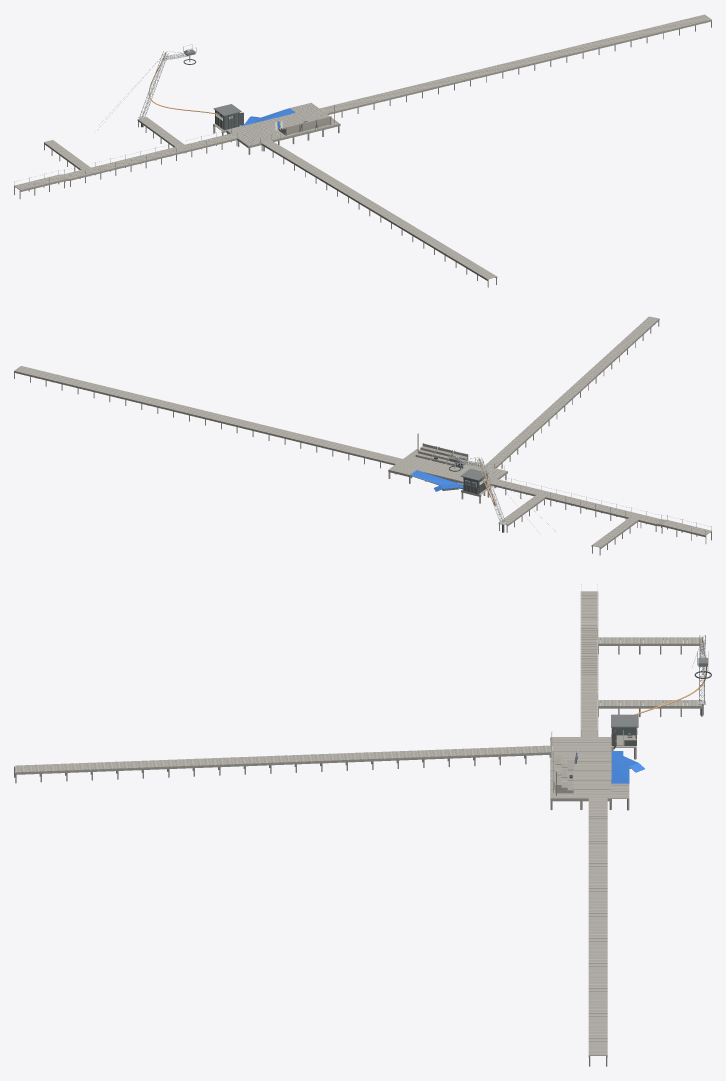
File: ccp_control_start_lounge.glb
The picture shows the model from 3 angles, top to bottom: view 1: azimuth 30°, elevation 25°; view 2: azimuth 150°, elevation 25°; view 3: azimuth 270°, elevation 25°; orthographic projection. The views are drawn at different scales.
Visible parts, largest first — view 1: Connected access walkways / Weathered timber 3, Connected access walkways / Weathered timber 0, Connected access walkways / Weathered timber 1, Connected access walkways / Weathered timber 2, Timber deck and piles / Weathered timber 3, Timber deck and piles / Weathered timber 0, Timber deck and piles / Weathered timber 2, Timber deck and piles / Weathered timber 1; view 2: Connected access walkways / Weathered timber 3, Connected access walkways / Weathered timber 0, Connected access walkways / Weathered timber 1, Connected access walkways / Weathered timber 2, Timber deck and piles / Weathered timber 3, Timber deck and piles / Weathered timber 0, Timber deck and piles / Weathered timber 2, Timber deck and piles / Weathered timber 1, Stepped lounge seating / Weathered timber 3; view 3: Connected access walkways / Weathered timber 3, Connected access walkways / Weathered timber 2, Connected access walkways / Weathered timber 0, Connected access walkways / Weathered timber 1, Timber deck and piles / Weathered timber 3, Timber deck and piles / Weathered timber 0, Timber deck and piles / Weathered timber 2, Timber deck and piles / Weathered timber 1.
Boxes of the visible parts, box(x1,y1,x2,y2) form: Connected access walkways / Weathered timber 3: box(14, 14, 711, 287); Connected access walkways / Weathered timber 0: box(15, 14, 711, 278); Connected access walkways / Weathered timber 1: box(14, 15, 708, 278); Connected access walkways / Weathered timber 2: box(18, 15, 709, 279); Timber deck and piles / Weathered timber 3: box(213, 103, 340, 154); Timber deck and piles / Weathered timber 0: box(213, 103, 338, 146); Timber deck and piles / Weathered timber 2: box(224, 102, 339, 145); Timber deck and piles / Weathered timber 1: box(225, 103, 337, 145); Connected access walkways / Weathered timber 3: box(14, 318, 711, 555); Connected access walkways / Weathered timber 0: box(14, 317, 710, 547); Connected access walkways / Weathered timber 1: box(18, 317, 711, 545); Connected access walkways / Weathered timber 2: box(16, 316, 707, 546); Timber deck and piles / Weathered timber 3: box(388, 449, 507, 503); Timber deck and piles / Weathered timber 0: box(390, 450, 507, 495); Timber deck and piles / Weathered timber 2: box(388, 449, 504, 494); Timber deck and piles / Weathered timber 1: box(391, 449, 504, 494); Stepped lounge seating / Weathered timber 3: box(416, 443, 467, 467); Connected access walkways / Weathered timber 3: box(14, 592, 702, 1066); Connected access walkways / Weathered timber 2: box(14, 593, 698, 1053); Connected access walkways / Weathered timber 0: box(18, 592, 701, 1055); Connected access walkways / Weathered timber 1: box(16, 591, 696, 1052); Timber deck and piles / Weathered timber 3: box(550, 735, 636, 810); Timber deck and piles / Weathered timber 0: box(551, 734, 629, 796); Timber deck and piles / Weathered timber 2: box(551, 738, 636, 798); Timber deck and piles / Weathered timber 1: box(551, 736, 636, 796).
Bounding box in the file's own units: 136 × 13.16 × 86.81.
16 materials, 1 textured.
